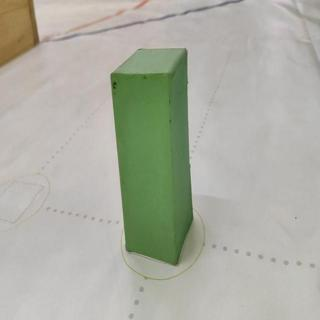greenbox: (109, 45, 191, 266)
